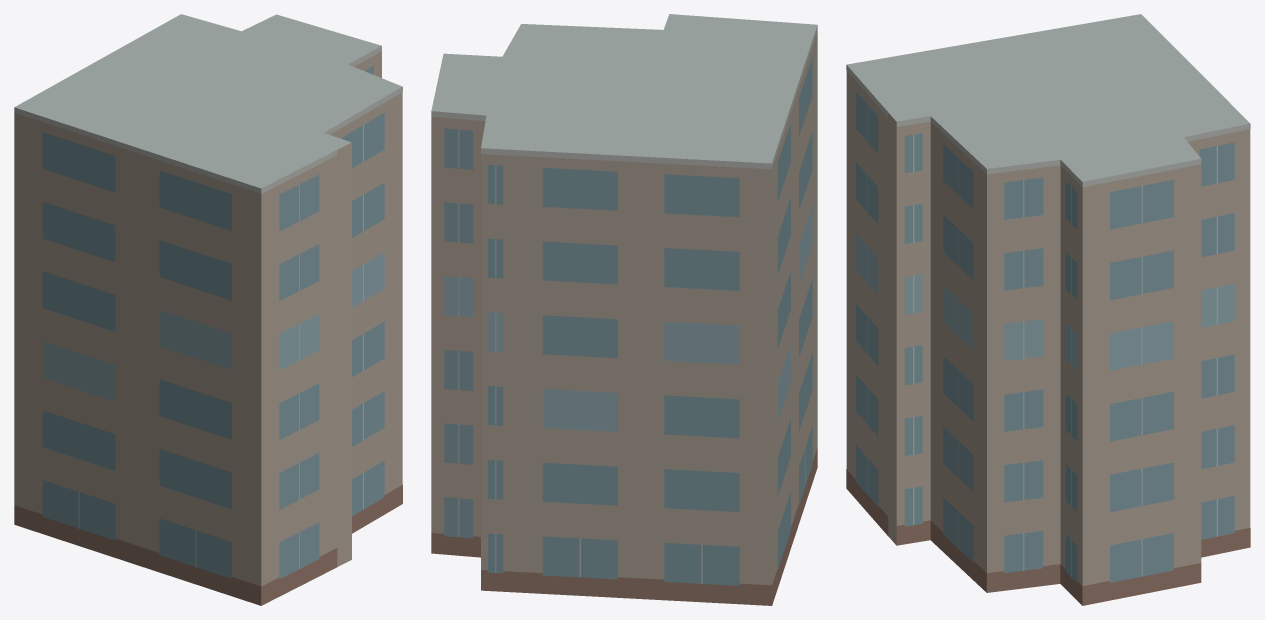
File: survey-upis-32845477.glb
3 renders of one model, left to right at view 1: azimuth 30°, elevation 25°; view 2: azimuth 150°, elevation 25°; view 3: azimuth 270°, elevation 25°, orthographic. The views are drawn at different scales.
Parts seen in each view (by area): view 1: survey-upis-32845477.tmp; view 2: survey-upis-32845477.tmp; view 3: survey-upis-32845477.tmp.
Boxes of the visible parts, box(x1,y1,x2,y2) form: survey-upis-32845477.tmp: box(14, 14, 402, 605); survey-upis-32845477.tmp: box(431, 14, 817, 605); survey-upis-32845477.tmp: box(846, 14, 1250, 605).
Size of the model in its own units: 15.92 by 18.73 by 16.19.
